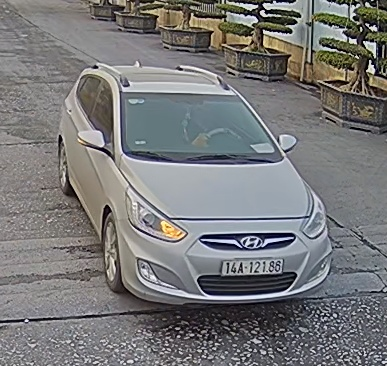vehicle plate: (218, 255, 287, 277)
